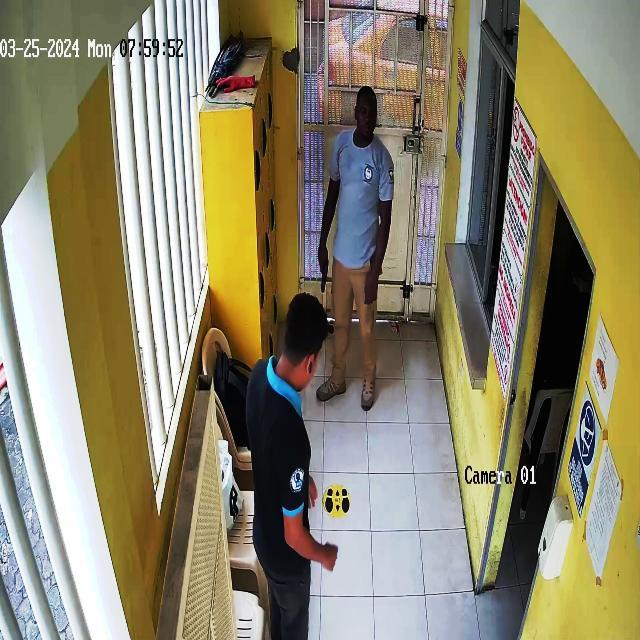Gun: (311, 243, 334, 299)
